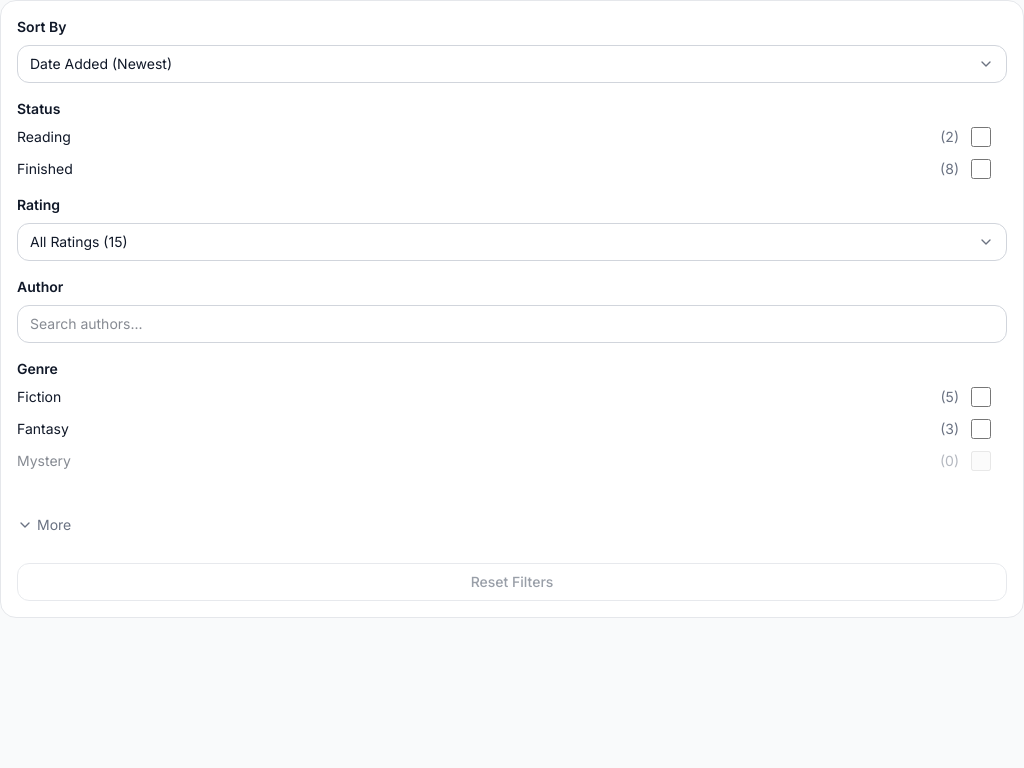
Test: FilterSidebar › series filters › shows series when More is clicked
Click the button "More" at (44,525), box [17, 503, 71, 547]
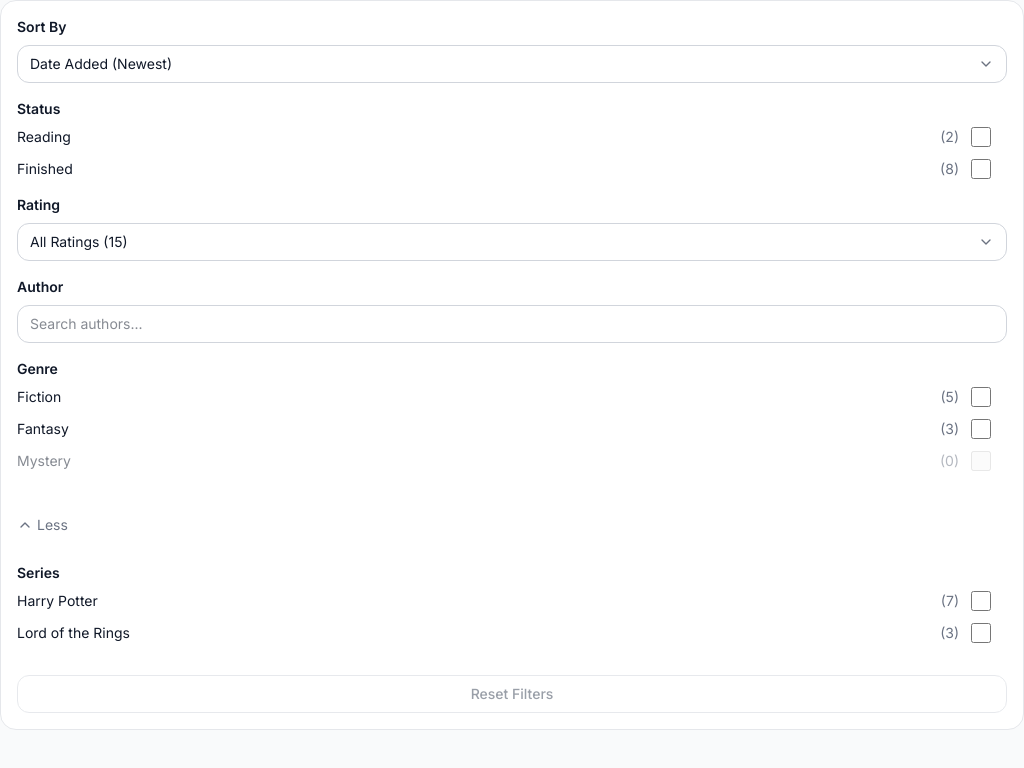
expect the text "Harry Potter" is shown: met, box [17, 591, 98, 611]
expect the text "Lord of the Rings" is shown: met, box [17, 623, 130, 643]
